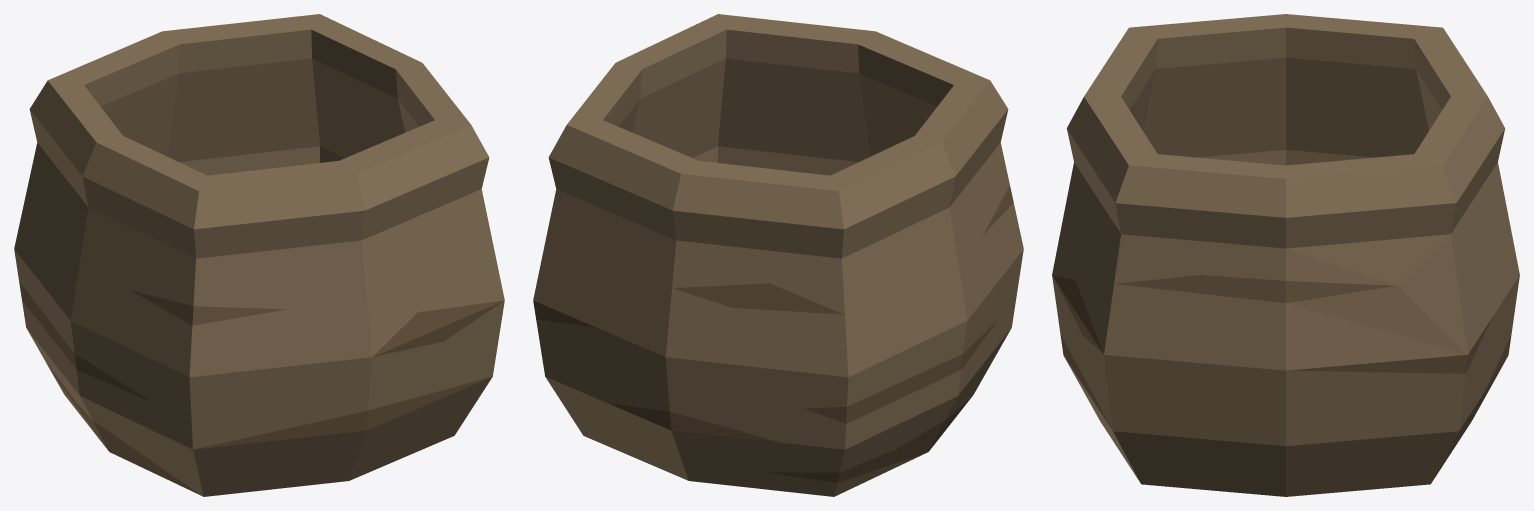
File: basket_a.glb
3 renders of one model, left to right at view 1: azimuth 30°, elevation 25°; view 2: azimuth 150°, elevation 25°; view 3: azimuth 270°, elevation 25°, orthographic. The views are drawn at different scales.
Parts seen in each view (by area): view 1: SM_Prop_Basket_01; view 2: SM_Prop_Basket_01; view 3: SM_Prop_Basket_01.
Part boxes in pixels (left/top/right/bottom): SM_Prop_Basket_01: left=14, top=14, right=504, bottom=496; SM_Prop_Basket_01: left=533, top=14, right=1023, bottom=496; SM_Prop_Basket_01: left=1052, top=14, right=1519, bottom=496.
Size of the model in its own units: 34.7 by 27.6 by 35.89.
1 material, 1 textured.
